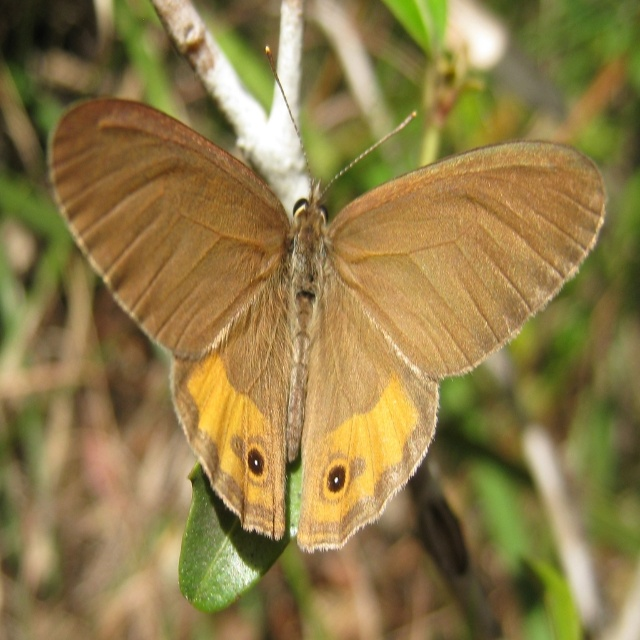Butterfly: (47, 45, 608, 551)
